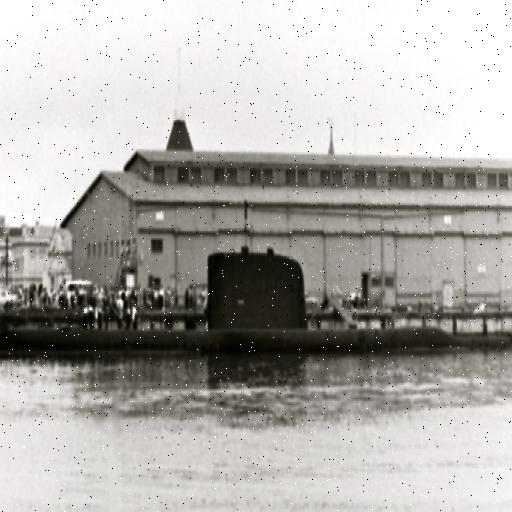submarine: (1, 253, 512, 349)
